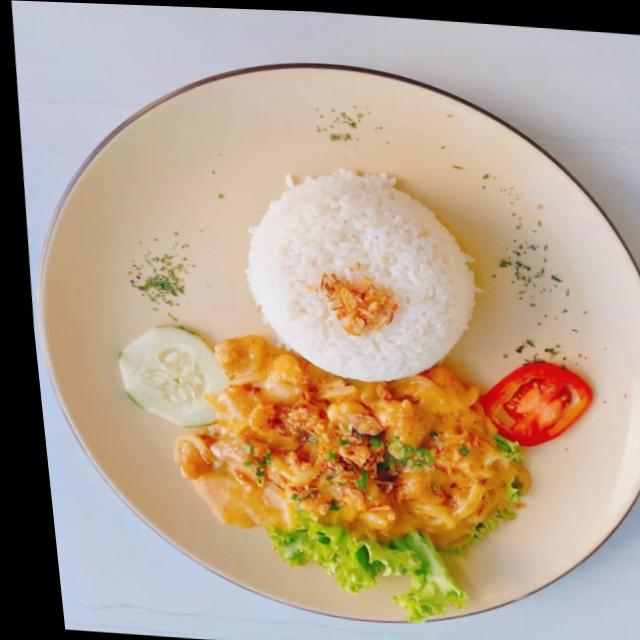RICE: (247, 162, 486, 368)
VEGGIES: (163, 294, 544, 625)
